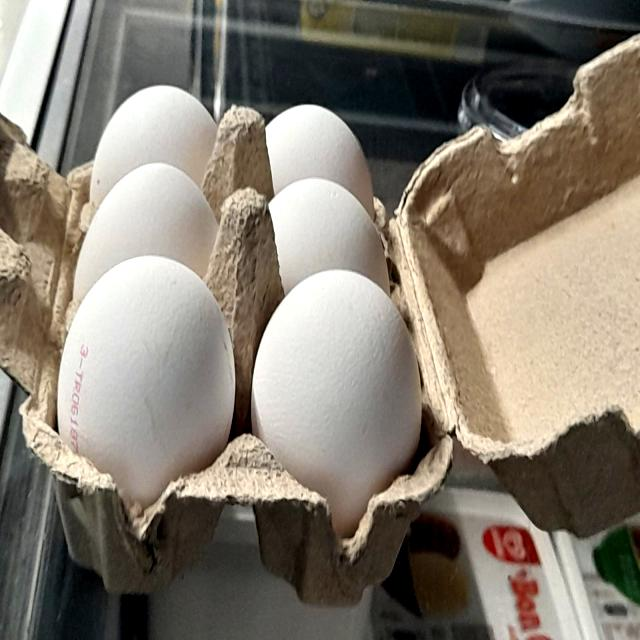egg: (52, 249, 235, 523), (250, 260, 420, 526)
